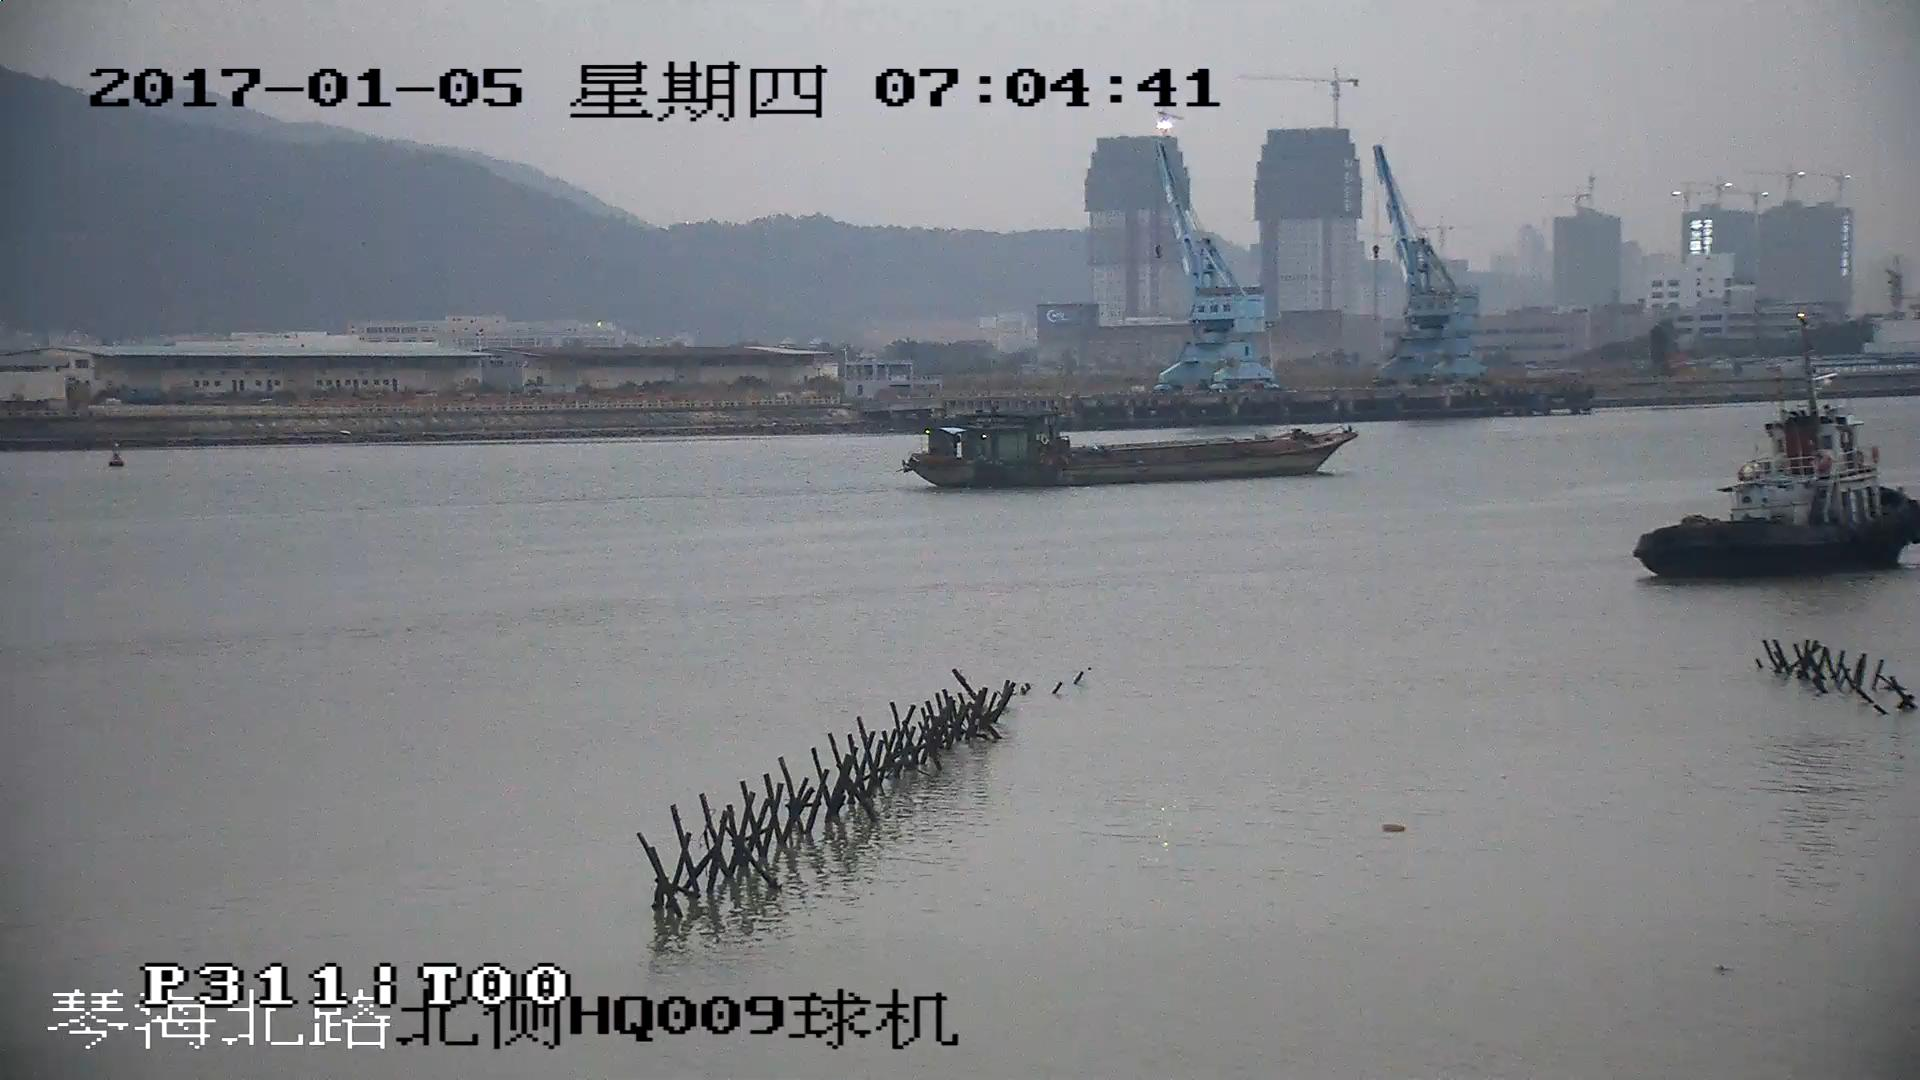bulk cargo carrier: (911, 424, 1358, 487)
